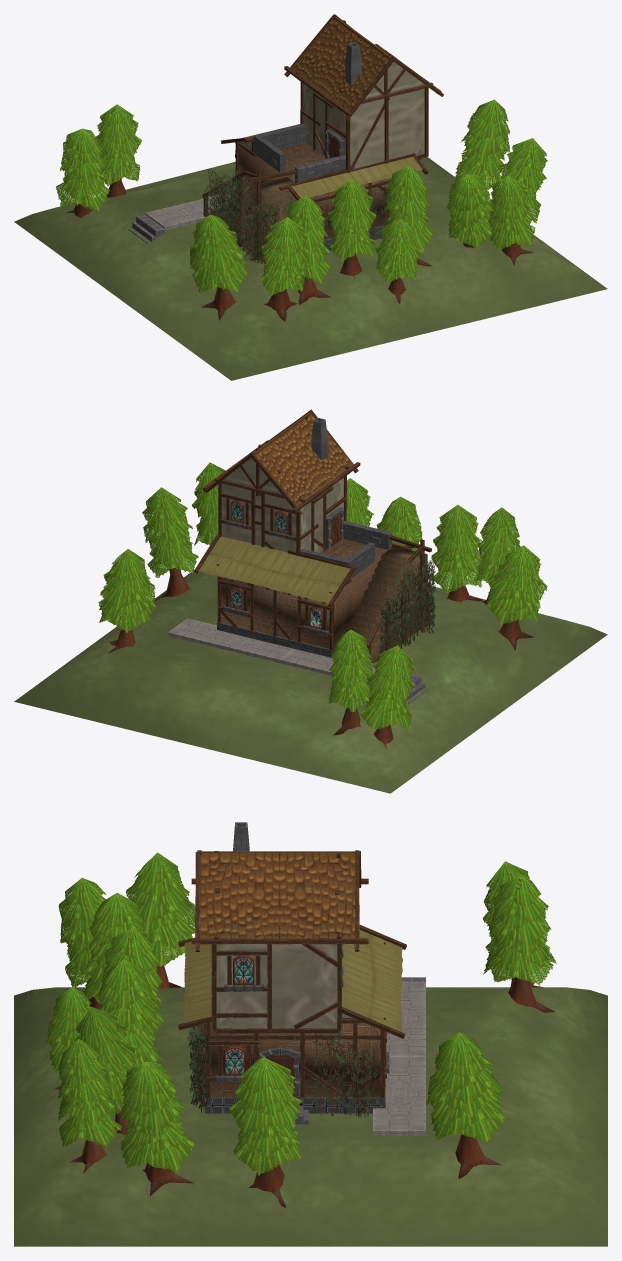
The picture shows the model from 3 angles, top to bottom: view 1: azimuth 30°, elevation 25°; view 2: azimuth 150°, elevation 25°; view 3: azimuth 270°, elevation 25°; orthographic projection. The views are drawn at different scales.
Visible parts, largest first — view 1: Plane.383, House Box 7x7x6.003, Roof Type A.002, House Box 10x10x5.002, Roof Type 2x11.001, Stairs Type A.001, Stone Wall A.001, SideWalk, House Top Trim.005, Tree Folliage.100, Stone Wall 4,5x0,5x1,5.001, Tree Folliage.003 (+32 smaller); view 2: Plane.383, House Box 10x10x5.002, Roof Type 4x12.001, Roof Type A.002, House Box 7x7x6.003, Stairs Type A.001, SideWalk.001, House Box 10.2x10.2.002, SideWalk, Stone Wall 4,5x0,5x1,5.001, Stone Wall A.001, Tree Folliage.003 (+19 smaller); view 3: Plane.383, Roof Type B.002, House Box 7x7x6.003, House Box 10x10x5.002, Roof Type 4x12.001, SideWalk.001, SideWalk, Roof Type 2x11.001, House Box 10.2x10.2.002, Tree Folliage.082, Tree Folliage.068, Tree Folliage.071 (+54 smaller).
Boxes of the visible parts, x1,y1,x2,y2 form: Plane.383: [14, 157, 607, 380]; House Box 7x7x6.003: [303, 83, 424, 168]; Roof Type A.002: [292, 18, 389, 111]; House Box 10x10x5.002: [238, 143, 393, 239]; Roof Type 2x11.001: [291, 157, 422, 197]; Stairs Type A.001: [208, 177, 296, 263]; Stone Wall A.001: [253, 124, 305, 172]; SideWalk: [145, 192, 234, 230]; House Top Trim.005: [364, 62, 424, 99]; Tree Folliage.100: [56, 180, 110, 211]; Stone Wall 4,5x0,5x1,5.001: [294, 155, 345, 182]; Tree Folliage.003: [189, 244, 245, 274]; Plane.383: [14, 570, 607, 793]; House Box 10x10x5.002: [220, 539, 387, 648]; Roof Type 4x12.001: [199, 536, 350, 603]; Roof Type A.002: [255, 414, 352, 505]; House Box 7x7x6.003: [222, 478, 343, 552]; Stairs Type A.001: [348, 547, 427, 663]; SideWalk.001: [168, 618, 294, 662]; House Box 10.2x10.2.002: [217, 622, 337, 657]; SideWalk: [280, 649, 410, 685]; Stone Wall 4,5x0,5x1,5.001: [342, 520, 391, 549]; Stone Wall A.001: [300, 542, 374, 578]; Tree Folliage.003: [488, 576, 547, 605]; Plane.383: [14, 987, 607, 1246]; Roof Type B.002: [200, 851, 354, 938]; House Box 7x7x6.003: [216, 944, 337, 1028]; House Box 10x10x5.002: [210, 1022, 380, 1096]; Roof Type 4x12.001: [342, 930, 402, 1031]; SideWalk.001: [373, 1056, 425, 1135]; SideWalk: [386, 981, 425, 1056]; Roof Type 2x11.001: [184, 941, 211, 1022]; House Box 10.2x10.2.002: [204, 1079, 385, 1113]; Tree Folliage.082: [120, 1132, 194, 1171]; Tree Folliage.068: [229, 1097, 302, 1133]; Tree Folliage.071: [240, 1057, 290, 1094].
Size of the model in its own units: 3359 by 1918 by 3359.
34 materials, 34 textured.
